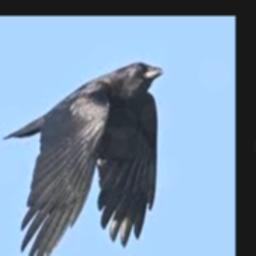Crow: (2, 59, 163, 256)
